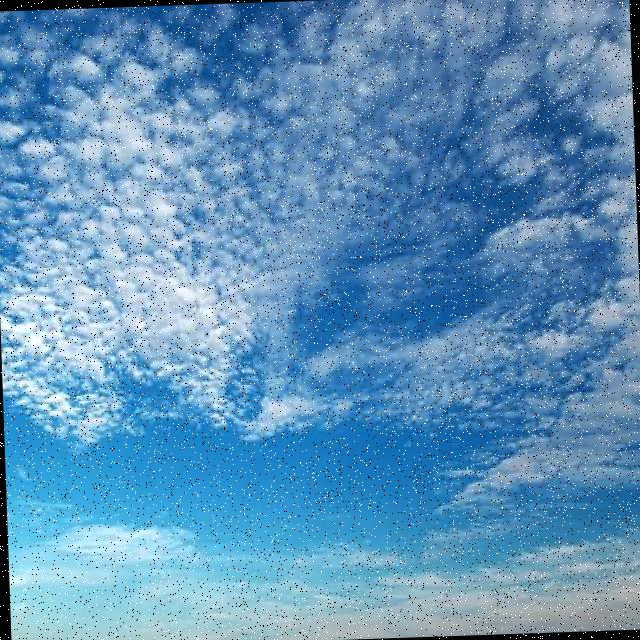Cc: (1, 1, 640, 530)
